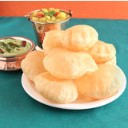poori: (44, 49, 98, 80), (36, 70, 79, 104), (80, 65, 122, 98), (63, 24, 98, 50), (21, 51, 50, 80), (88, 36, 117, 62), (44, 29, 70, 54)
